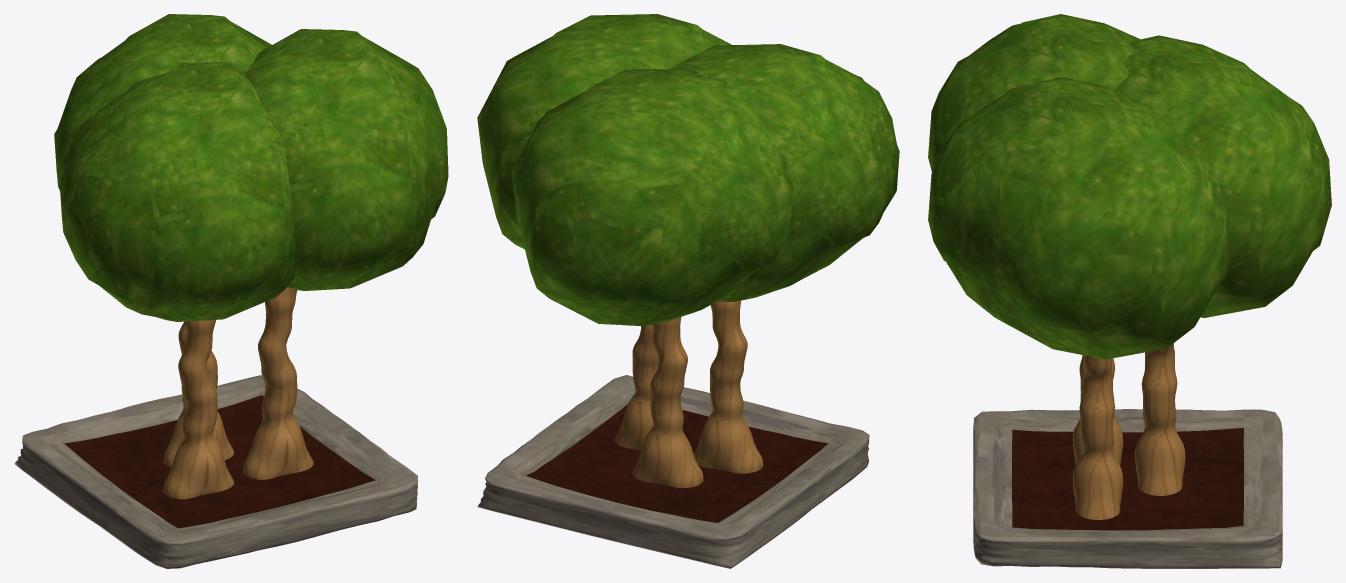
The picture shows the model from 3 angles, left to right: view 1: azimuth 30°, elevation 25°; view 2: azimuth 150°, elevation 25°; view 3: azimuth 270°, elevation 25°; orthographic projection. The views are drawn at different scales.
Visible parts, largest first — view 1: Mball.037, Cube.083, Mball.034, Mball.033, Mball.035, Mball.036, Mball.031; view 2: Mball.033, Cube.083, Mball.037, Mball.034, Mball.036, Mball.031, Mball.035; view 3: Mball.034, Cube.083, Mball.033, Mball.037, Mball.035, Mball.031, Mball.036.
Part boxes in pixels (left/top/right/bottom): Mball.037: left=59, top=62, right=295, bottom=321; Cube.083: left=14, top=375, right=418, bottom=568; Mball.034: left=245, top=29, right=448, bottom=290; Mball.033: left=54, top=14, right=271, bottom=190; Mball.035: left=243, top=287, right=313, bottom=479; Mball.036: left=163, top=320, right=233, bottom=499; Mball.031: left=164, top=321, right=234, bottom=467; Mball.033: left=511, top=68, right=794, bottom=326; Cube.083: left=477, top=375, right=869, bottom=568; Mball.037: left=672, top=44, right=899, bottom=301; Mball.034: left=477, top=14, right=731, bottom=249; Mball.036: left=694, top=300, right=763, bottom=473; Mball.031: left=632, top=317, right=703, bottom=488; Mball.035: left=615, top=325, right=658, bottom=450; Mball.034: left=928, top=77, right=1230, bottom=359; Cube.083: left=973, top=409, right=1282, bottom=568; Mball.033: left=1114, top=35, right=1331, bottom=317; Mball.037: left=928, top=14, right=1140, bottom=172; Mball.035: left=1072, top=355, right=1123, bottom=519; Mball.031: left=1135, top=343, right=1185, bottom=495; Mball.036: left=1072, top=355, right=1123, bottom=465.
Size of the model in its own units: 3.62 by 4.01 by 3.29.
Materials: 4 (4 with a texture image).
